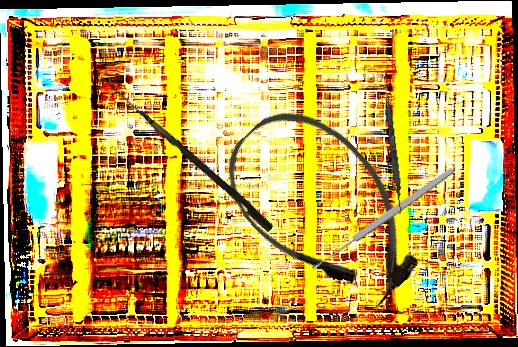Cannula: (204, 86, 445, 332)
Hook Surgical: (94, 76, 277, 233)
Spatula Surgical: (378, 71, 407, 215)
Surgical Spoon: (309, 165, 456, 273)
